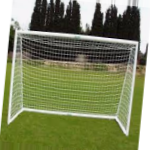goals: (9, 28, 138, 138)
